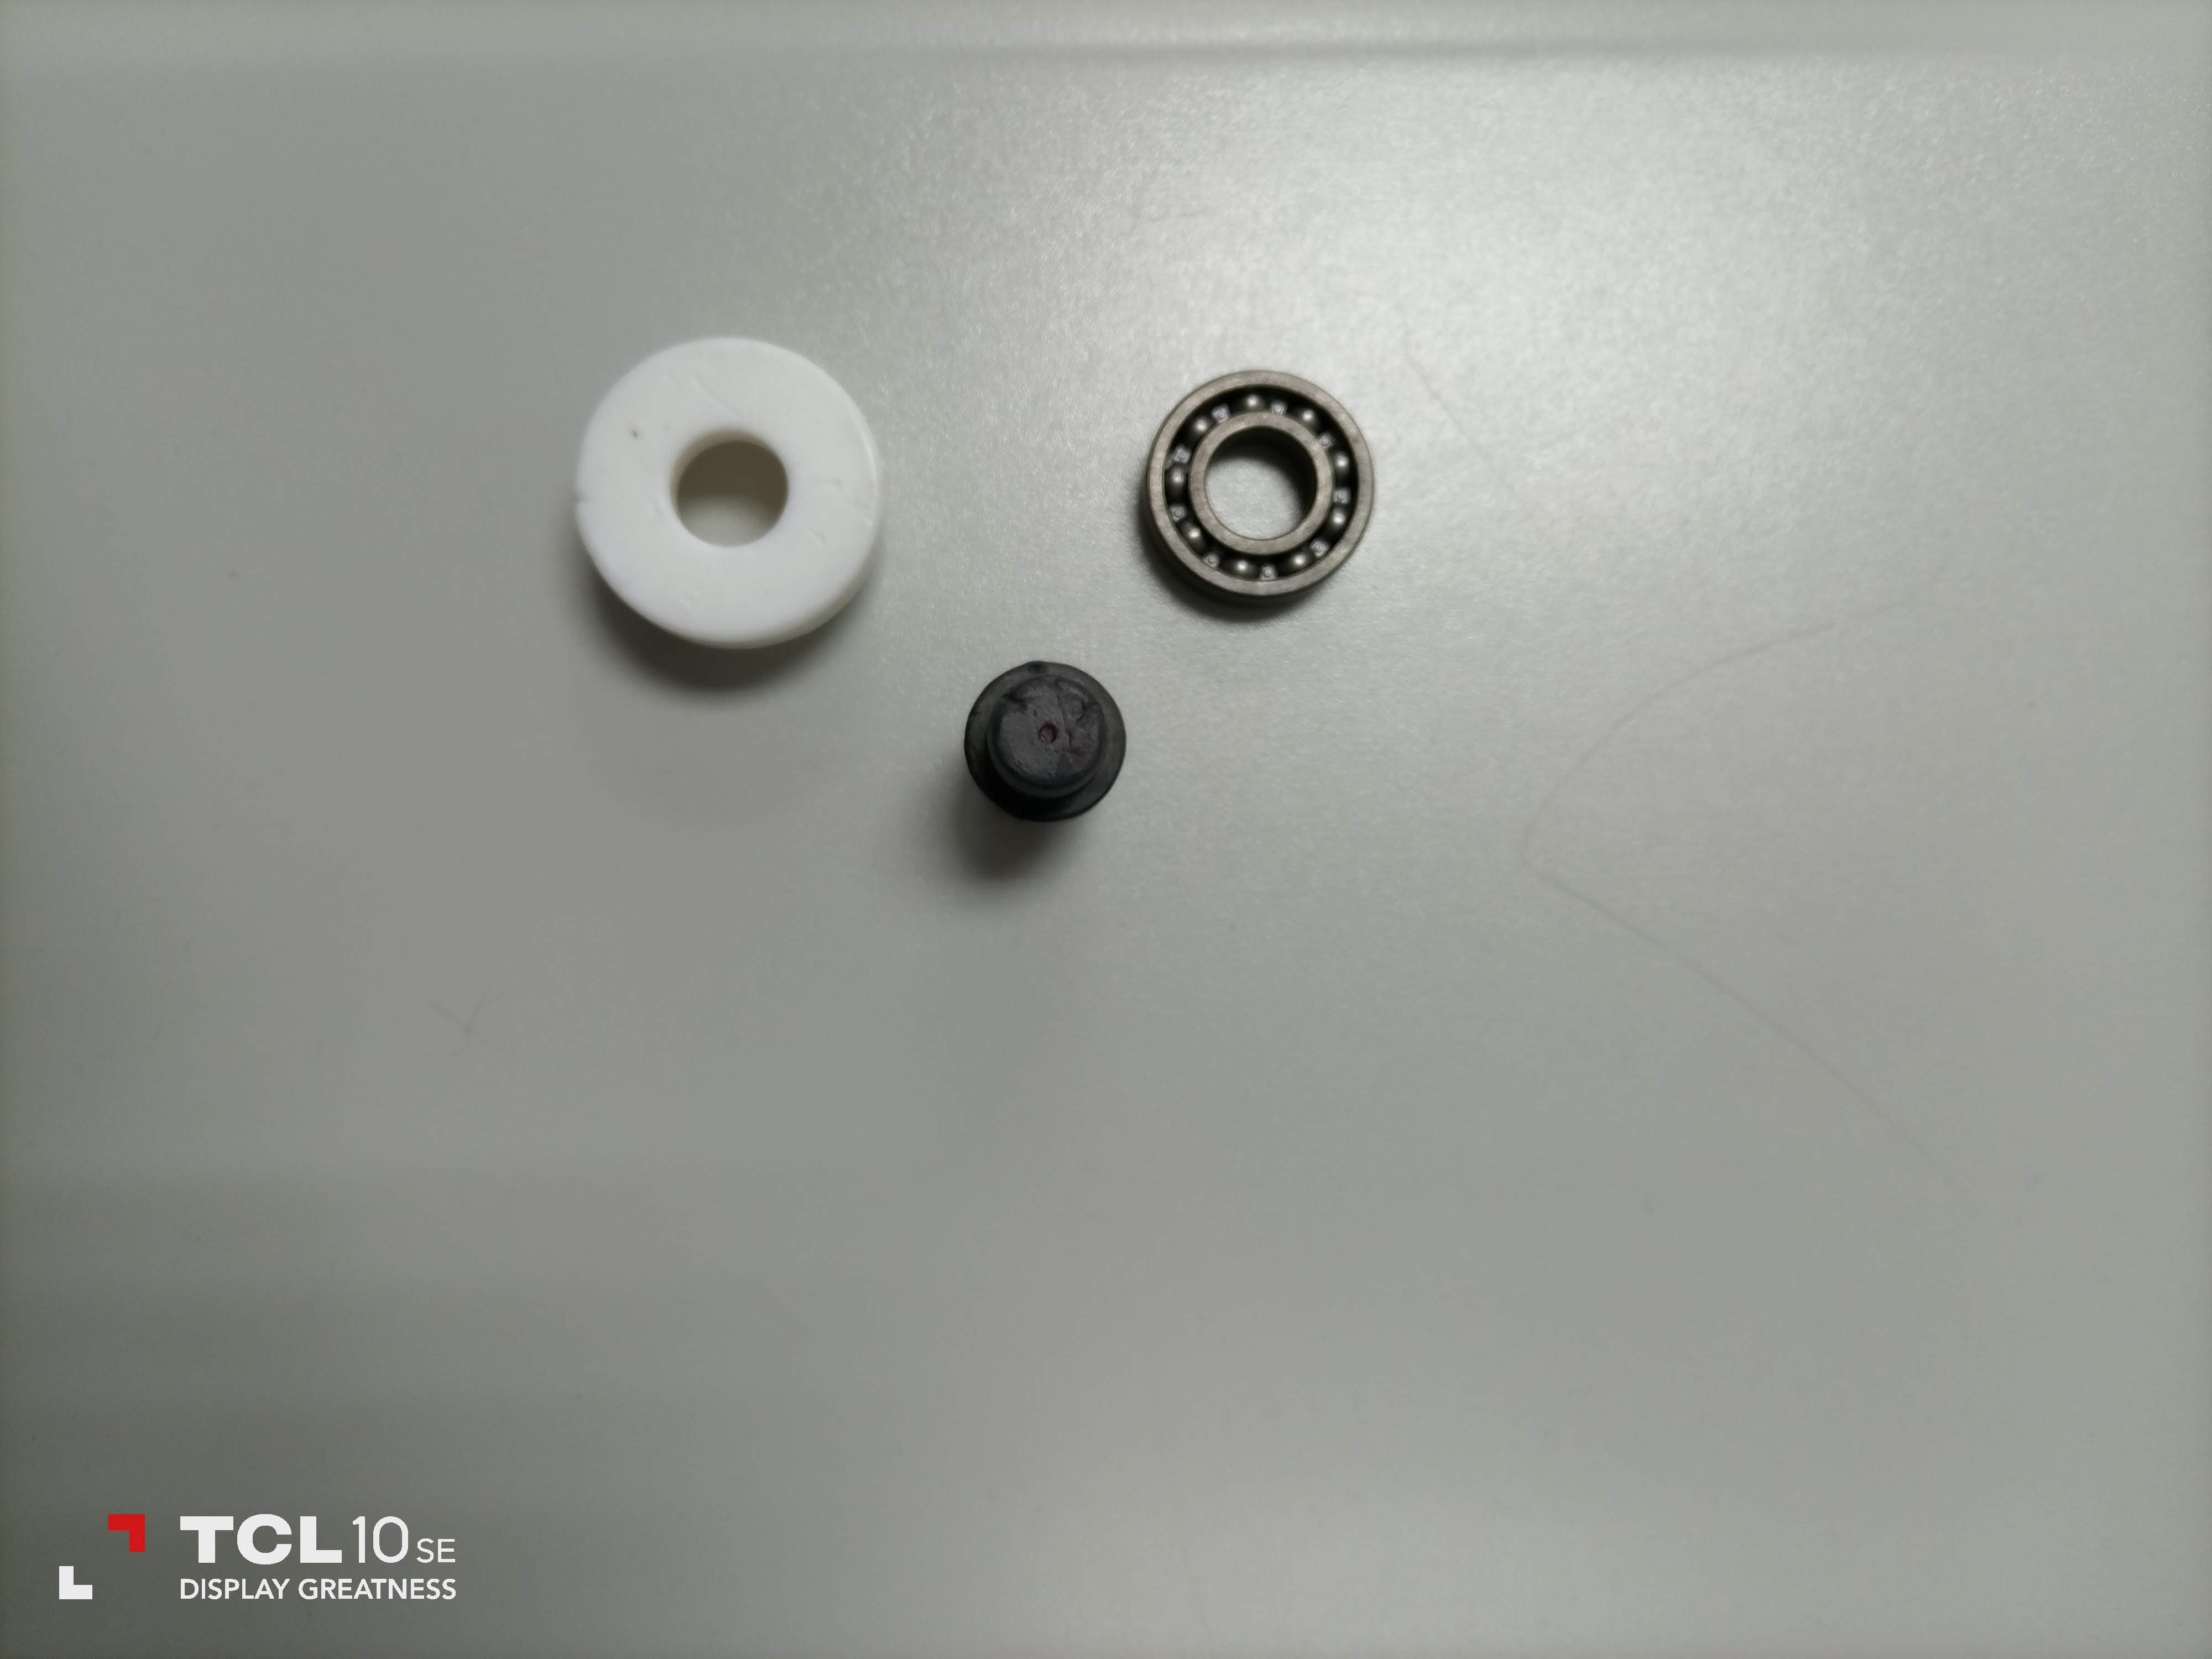Ardatza: (965, 659, 1125, 833)
Roda: (1139, 376, 1369, 599)
Tapa: (575, 331, 871, 659)
